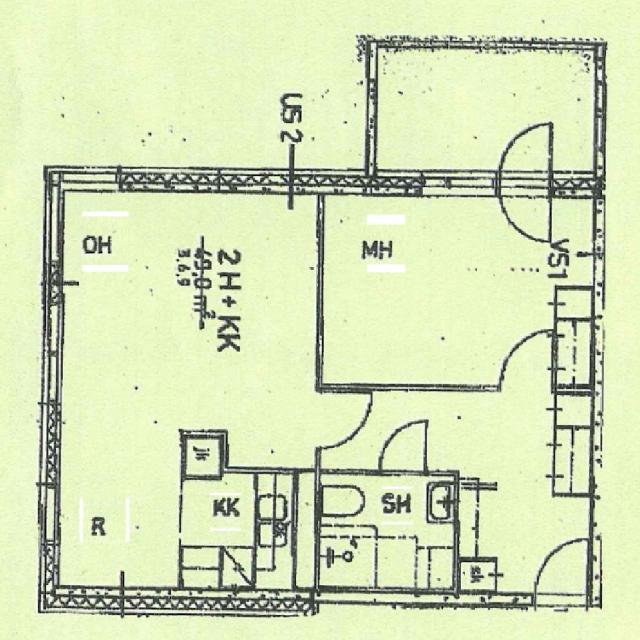door: (498, 111, 552, 193), (498, 166, 552, 248), (533, 536, 587, 607), (318, 393, 379, 448), (500, 331, 551, 389), (379, 418, 425, 472)
